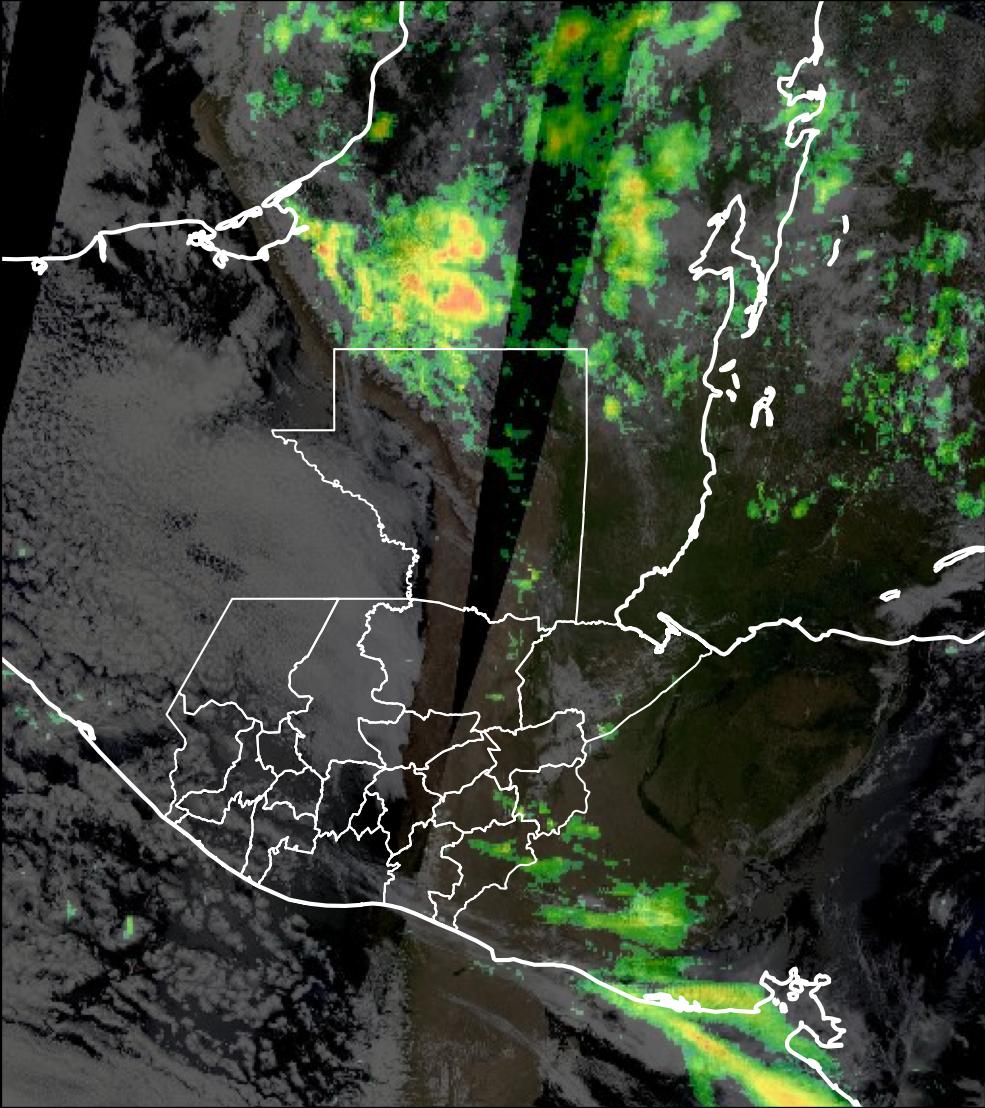precipitacion: (392, 207, 506, 330)
